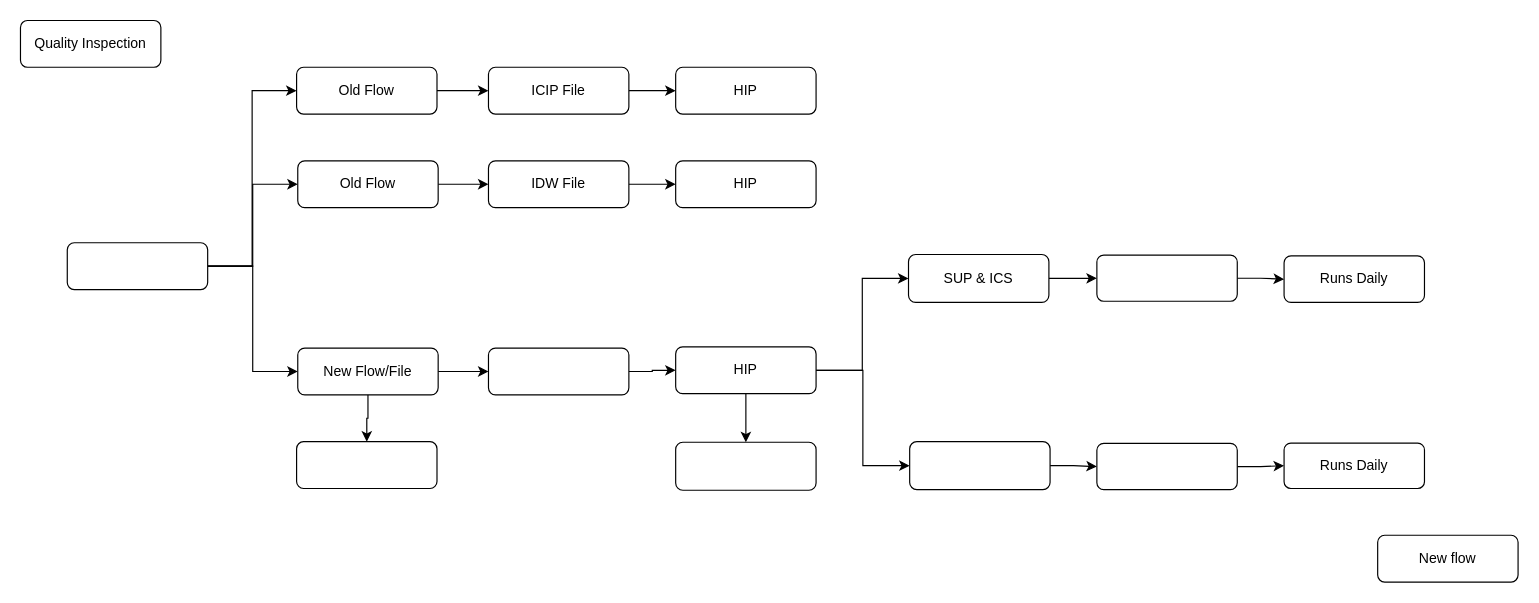
The diagram is 1539 pixels wide and 603 high, and some of its shapes have lost their labels. The centre of each missing label's shape, as x and y in pixels:
BU (SUP/ICS): point (558, 371)
DNAP: point (1166, 277)
Filter at HIP end Job 22:00 CET: point (745, 465)
ICIP: point (1166, 466)
ICS: point (979, 465)
SSCM: point (137, 266)
SSCM Job at 21:00 CET: point (366, 464)
